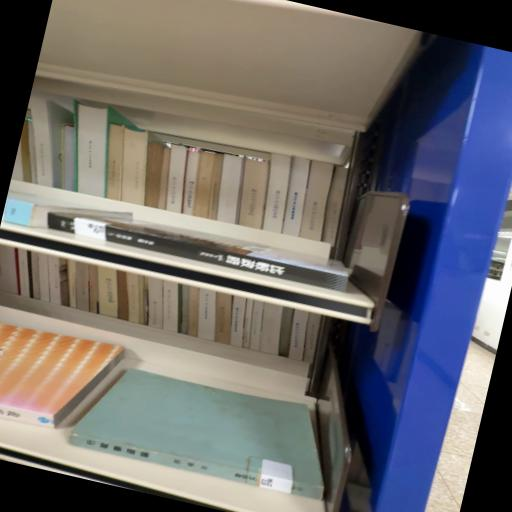flat: (70, 370, 324, 501), (48, 212, 351, 293), (1, 324, 125, 428)
